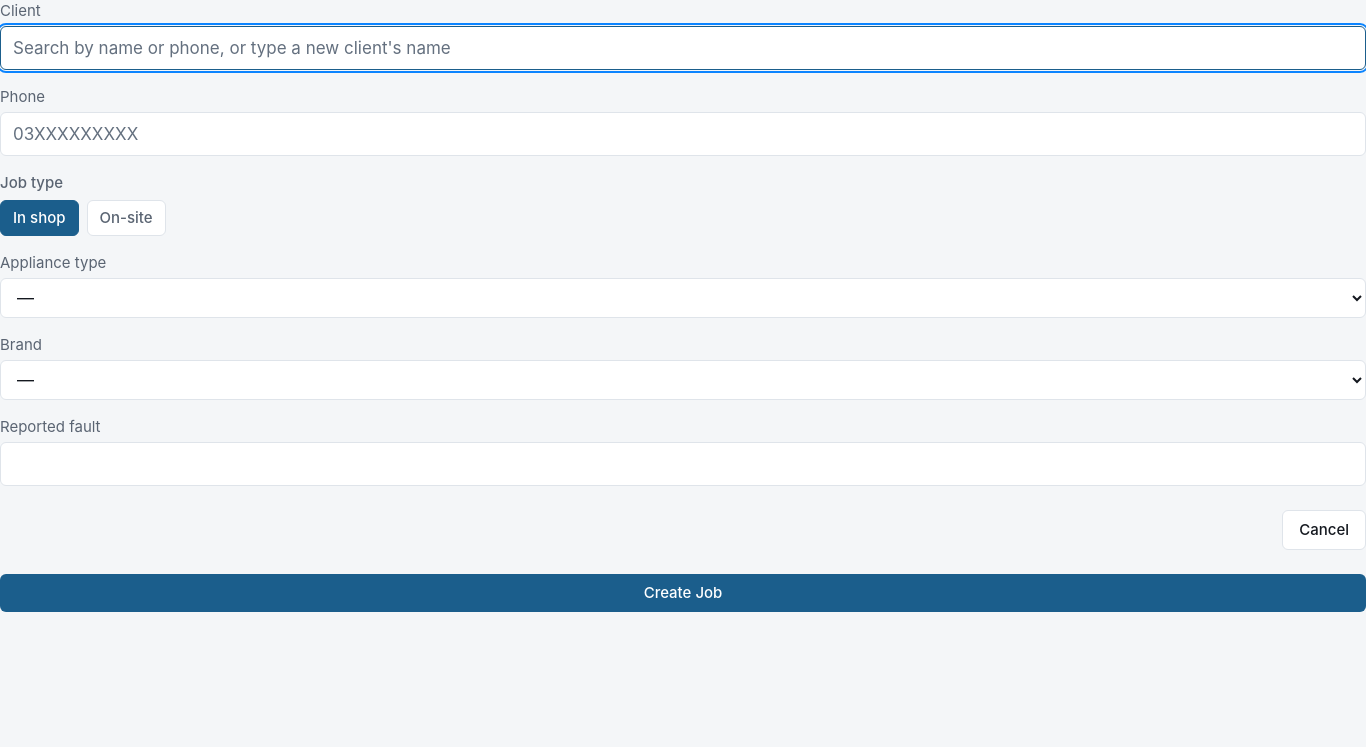
JobCreateForm (P15-4 — job type + on-site address group) › clicking back to "In shop" hides the address group again
Click the button "On-site" at (126, 218), box [86, 200, 166, 236]
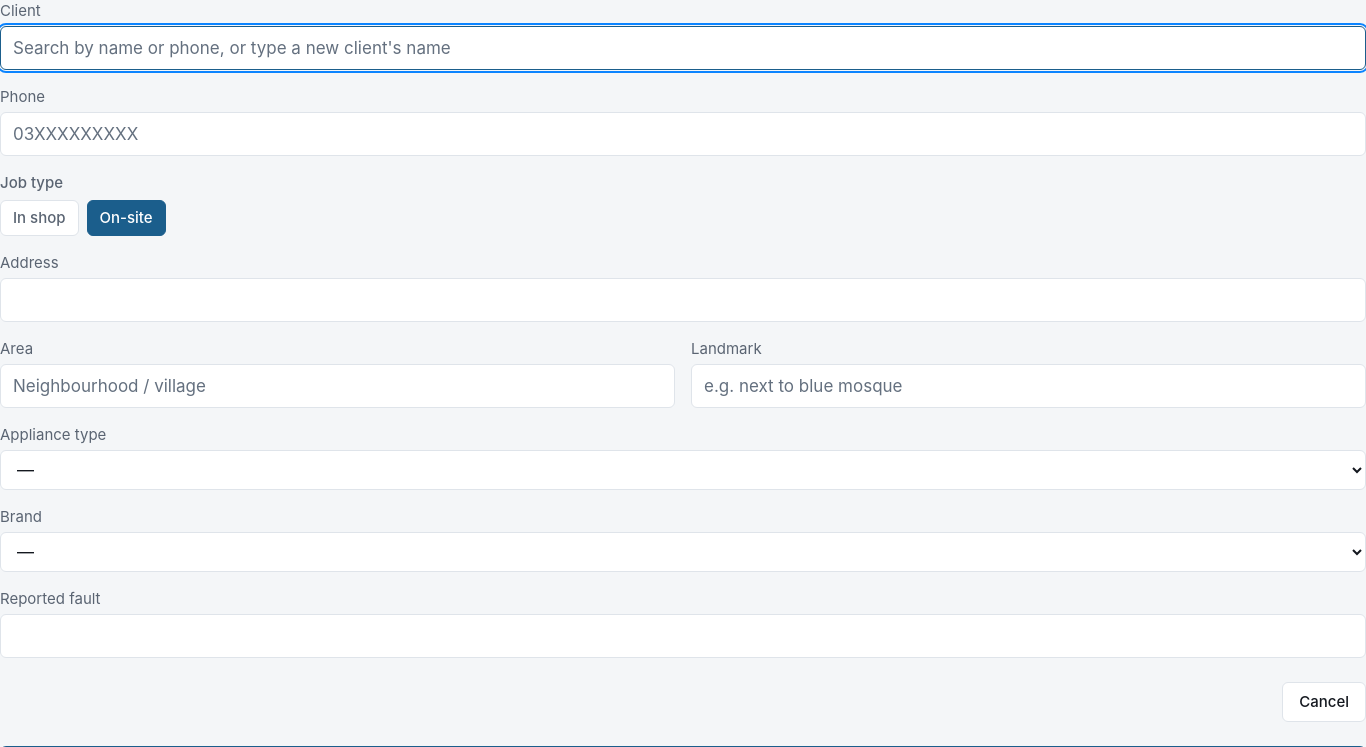
Expected: the field labelled "Address" is shown, [0, 278, 1365, 322]
Click the button "In shop" at (39, 218), box [0, 200, 78, 236]
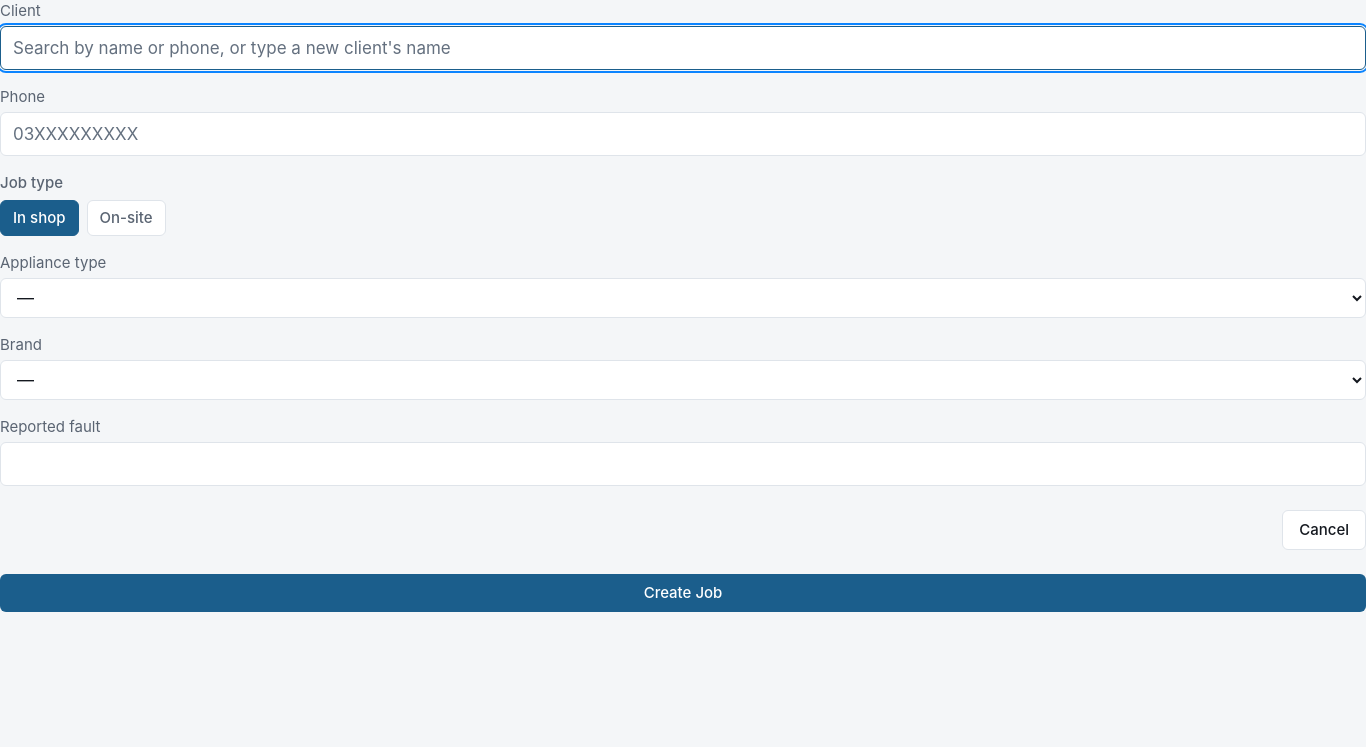
Expected: the label labelled "Address" is gone
